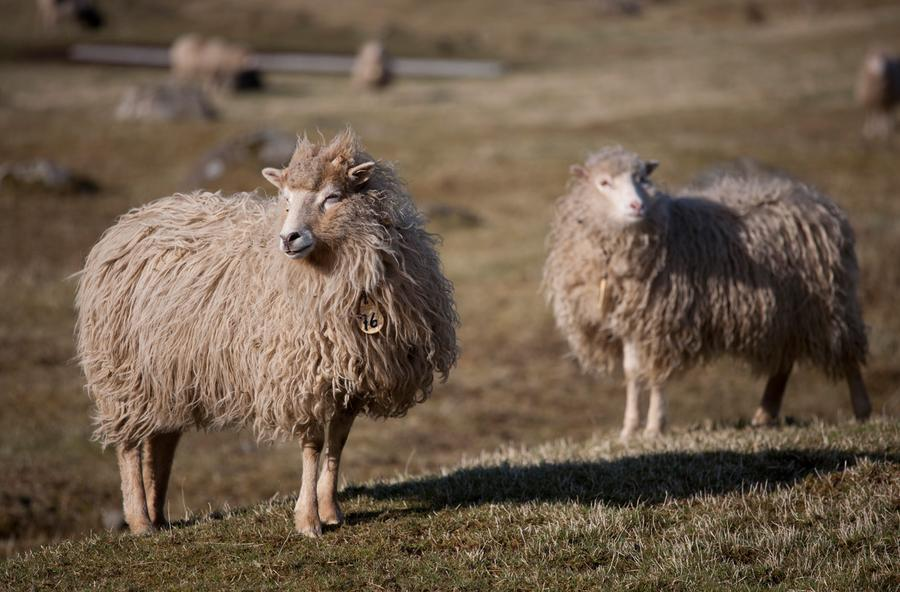sheep: (73, 131, 463, 540), (537, 140, 873, 437)
